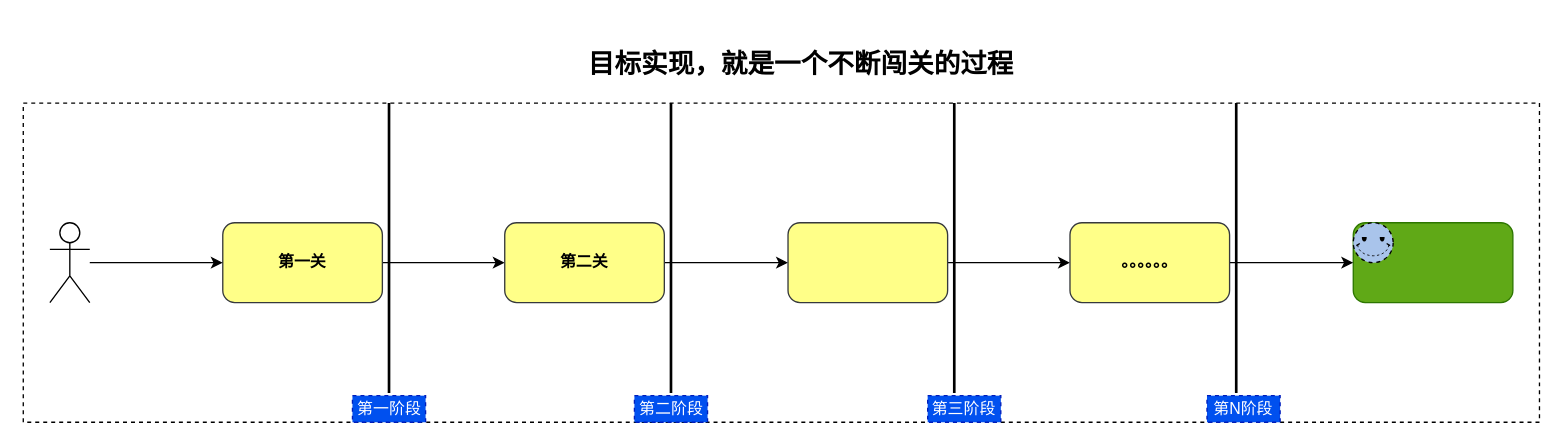
The diagram is 1563 pixels wide and 446 high, and some of its shapes have lost their labels. Each missing label, with the box of its shape:
最终目标: (1352, 221, 1513, 303)
第三关: (787, 221, 948, 303)
行动者: (49, 221, 90, 303)
